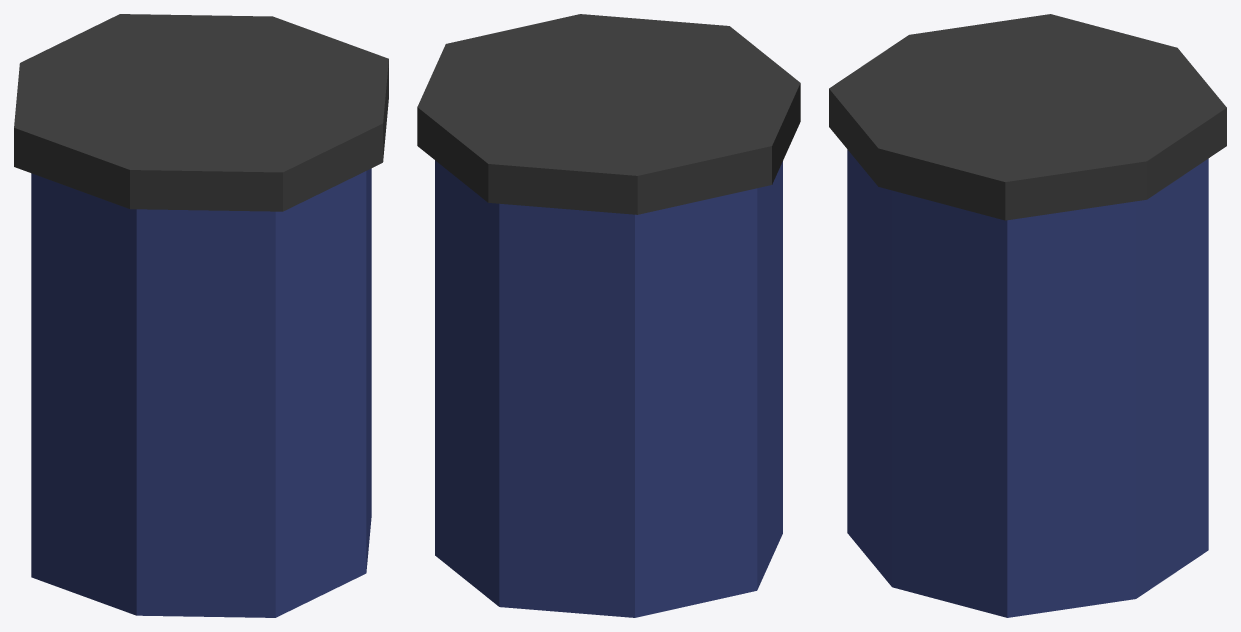
Rendered from Jar_3.fbx.
3 views of the same model, side by side, from view 1: azimuth 30°, elevation 25°; view 2: azimuth 150°, elevation 25°; view 3: azimuth 270°, elevation 25° (orthographic). The views are drawn at different scales.
Parts seen in each view (by area): view 1: Jar_3; view 2: Jar_3; view 3: Jar_3.
Boxes of the visible parts, x1,y1,x2,y2 form: Jar_3: (14,14,388,617); Jar_3: (417,14,800,617); Jar_3: (829,14,1226,617).
Bounding box in the file's own units: 29.08 × 29.08 × 35.75.
